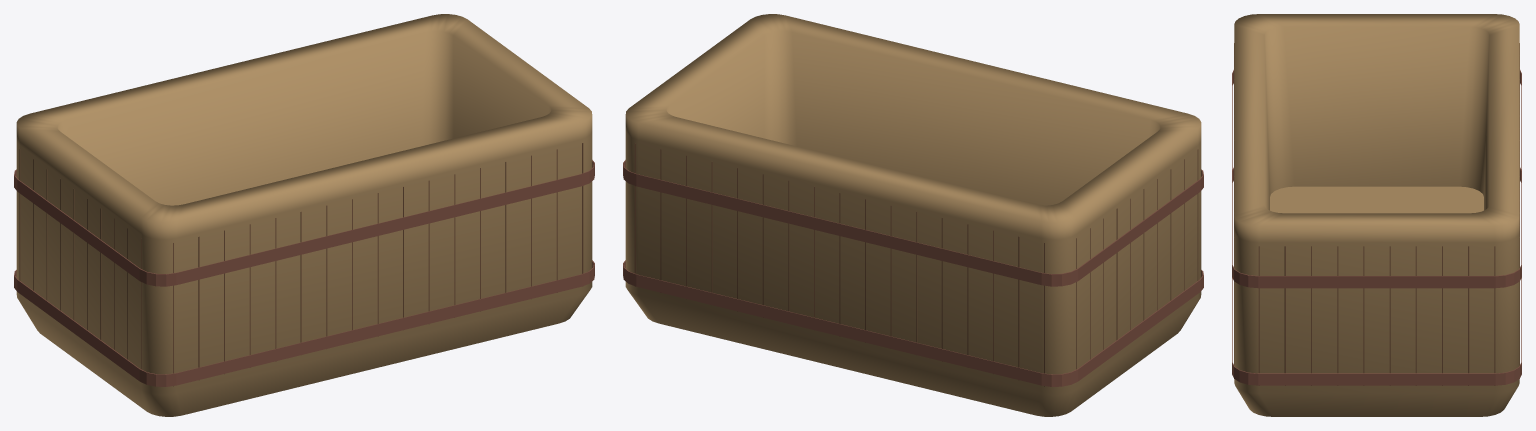
Rendered from kominka-hinoki-bath-01.glb.
The picture shows the model from 3 angles, left to right: view 1: azimuth 30°, elevation 25°; view 2: azimuth 150°, elevation 25°; view 3: azimuth 270°, elevation 25°; orthographic projection. The views are drawn at different scales.
Parts seen in each view (by area): view 1: kominka-hinoki-bath-01; view 2: kominka-hinoki-bath-01; view 3: kominka-hinoki-bath-01.
Part boxes in pixels (x1,y1,x2,y2): kominka-hinoki-bath-01: (14, 14, 594, 416); kominka-hinoki-bath-01: (623, 14, 1203, 416); kominka-hinoki-bath-01: (1232, 14, 1521, 416).
Size of the model in its own units: 1.4 by 0.6 by 0.8.
